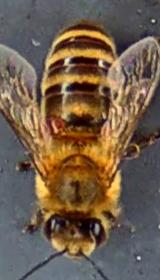varroa_mite: (31, 110, 73, 144)
